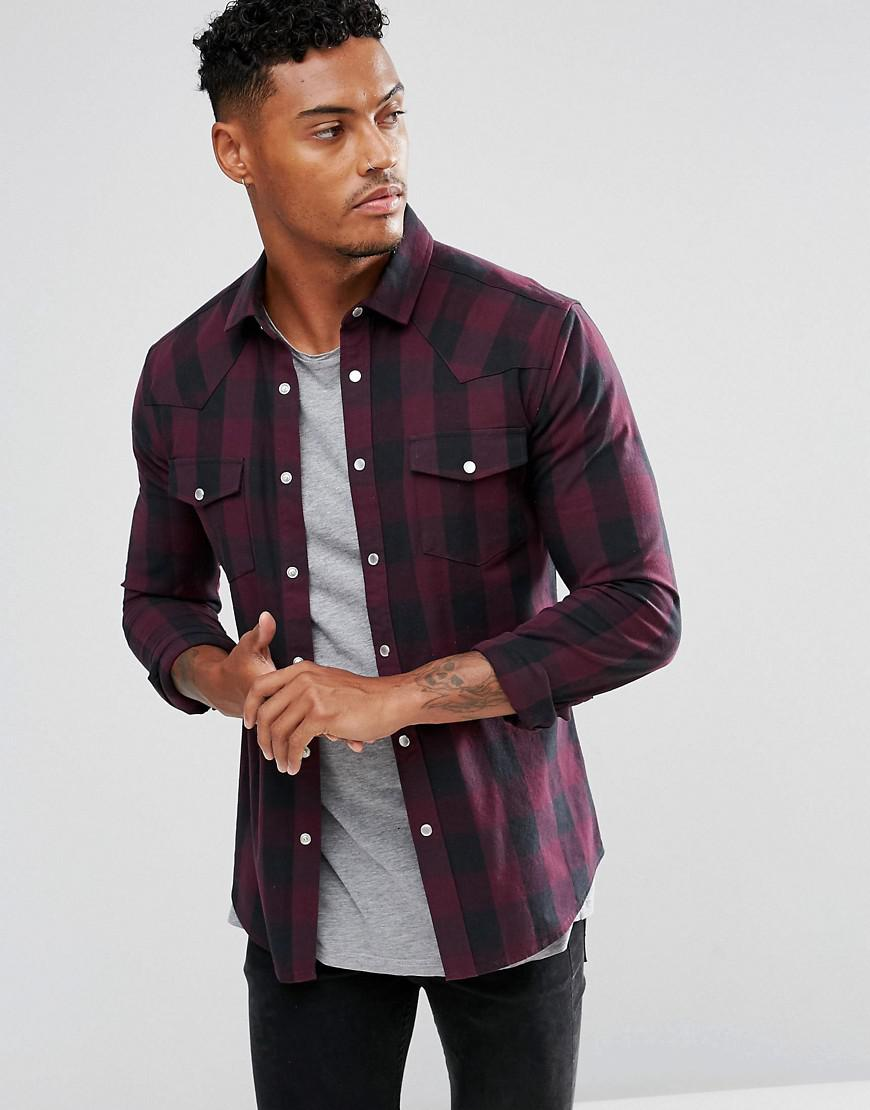teeshirt: (115, 217, 695, 966)
